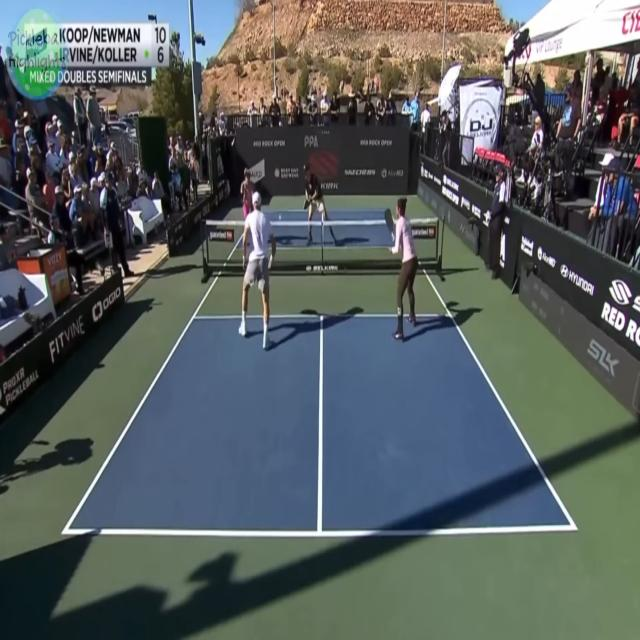ball: (278, 212, 283, 222)
